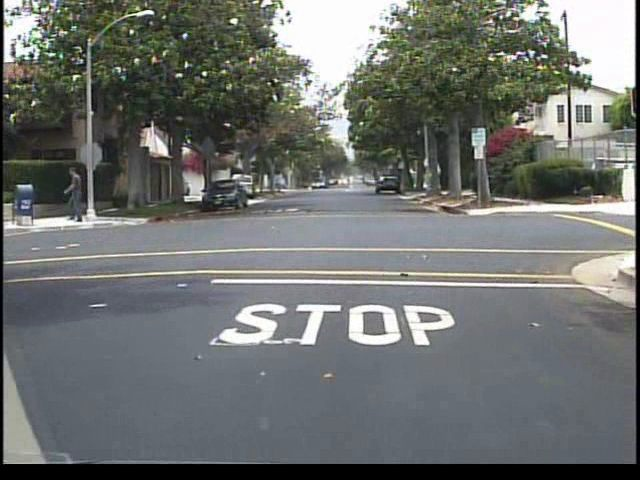person: (64, 161, 94, 226)
